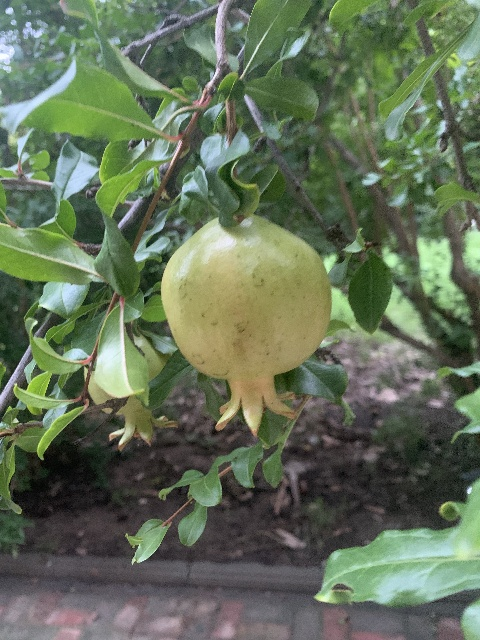mid-growth: (160, 215, 332, 437), (84, 331, 177, 452)
